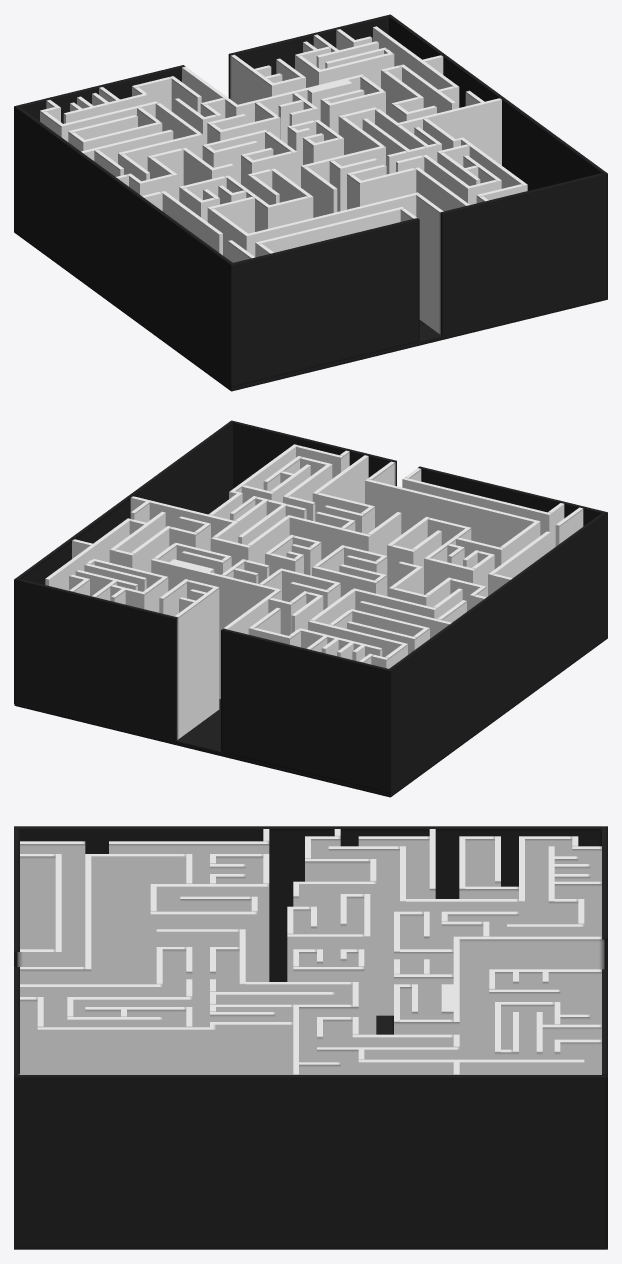
The model's file is DarkLaberinto.fbx.
3 renders of one model, top to bottom at view 1: azimuth 30°, elevation 25°; view 2: azimuth 150°, elevation 25°; view 3: azimuth 270°, elevation 25°, orthographic. The views are drawn at different scales.
Visible parts, largest first — view 1: Model; view 2: Model; view 3: Model.
Boxes of the visible parts, <box> form: Model: <box>14,14,607,391</box>; Model: <box>14,420,607,797</box>; Model: <box>14,826,607,1249</box>.
Bounding box in the file's own units: 3200 × 1024 × 3200.
Materials: 1 (1 with a texture image).
